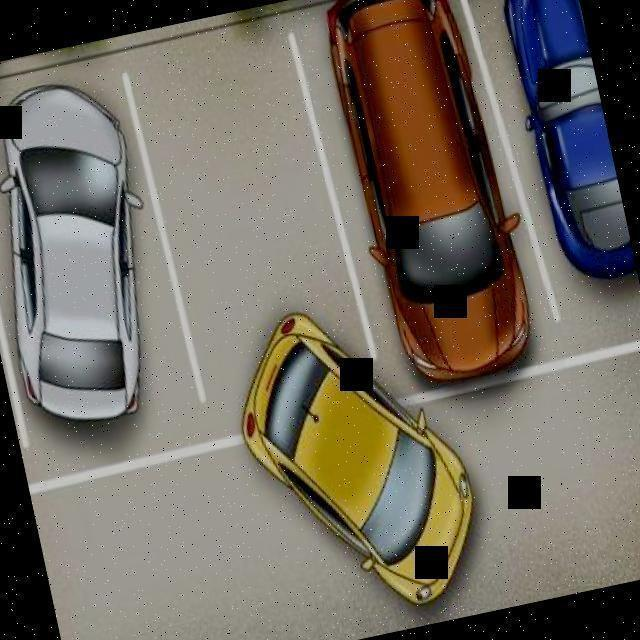Car: (314, 0, 529, 389), (0, 85, 186, 455), (232, 385, 496, 634), (492, 0, 637, 290)
Vacant: (150, 47, 329, 321)
